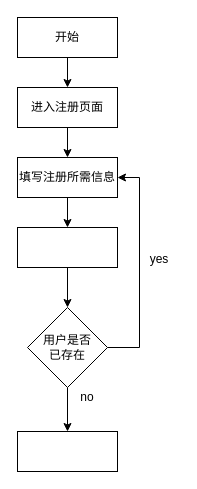
Image size: 197x489. Some labels were removed from this diagram. Here are the shapes that lost their labels. From the top down, the centre of each, then its label:
At pixel 67 247: "点击提交".
At pixel 67 451: "注册成功，等待管理员审核".
